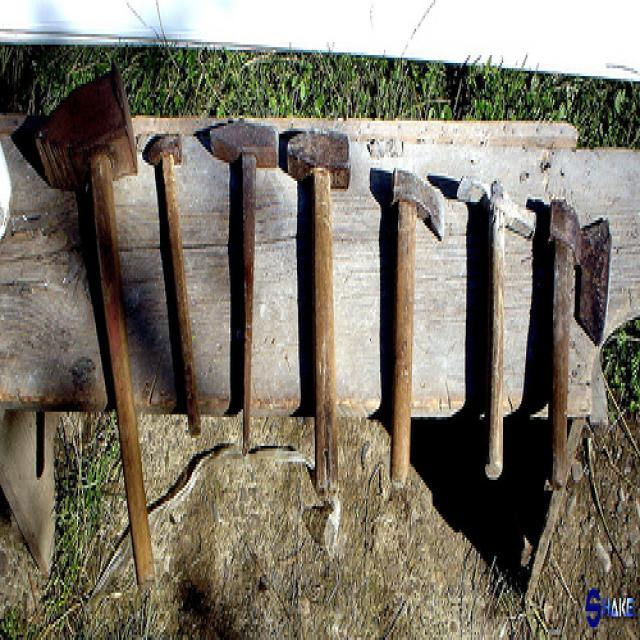hammer: (30, 49, 160, 634), (197, 96, 284, 468), (450, 152, 540, 504), (281, 109, 355, 498), (379, 141, 447, 514), (540, 189, 608, 523), (140, 116, 205, 452)
